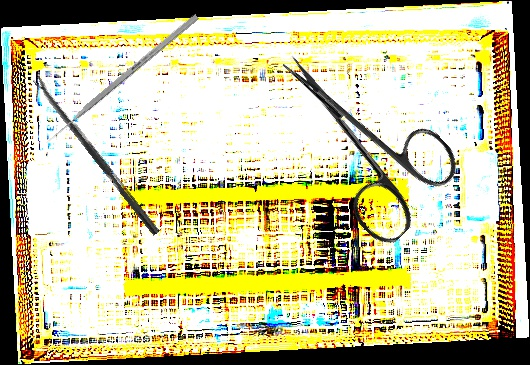Iris Scissors: (243, 20, 471, 252)
Pusher: (43, 13, 200, 146)
Surgical Spoon: (32, 75, 161, 236)
